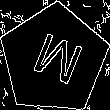M_S: (24, 27, 84, 92)
